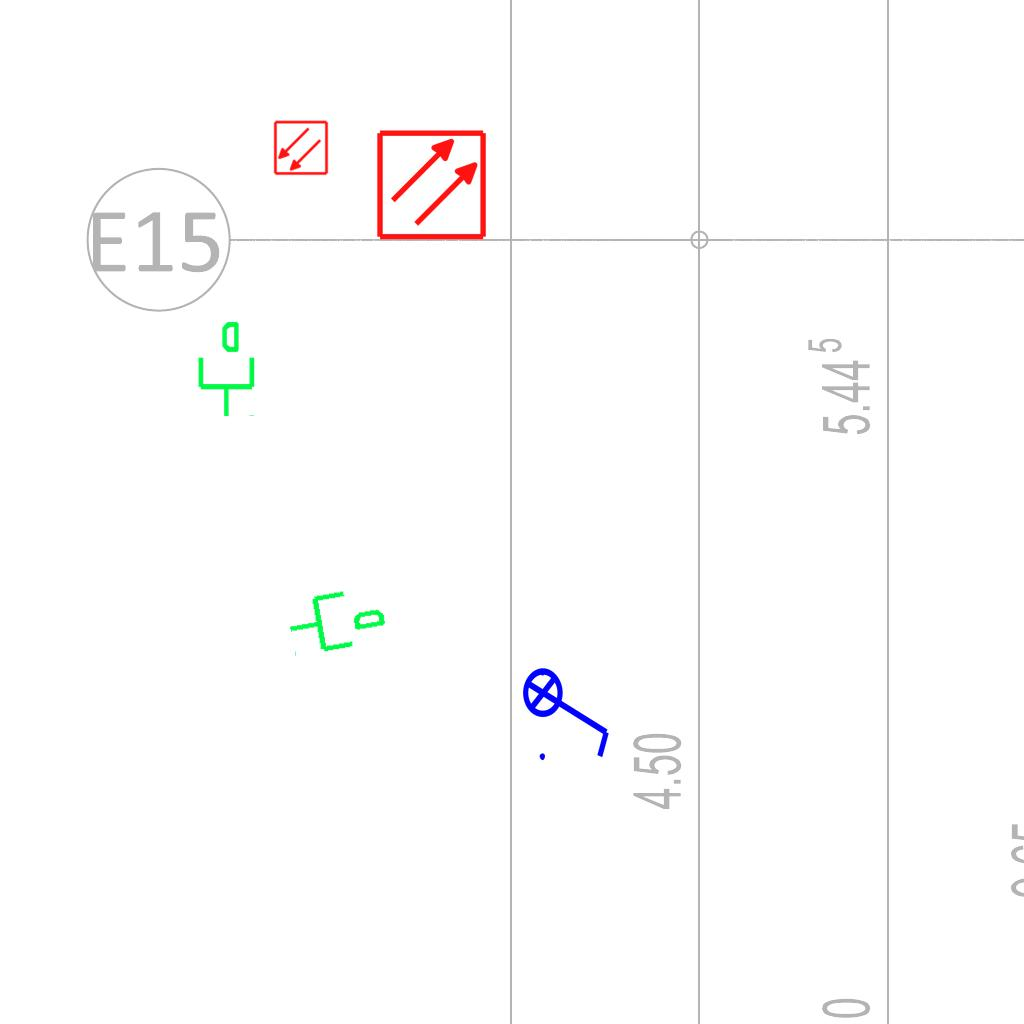Ausschalter_beleuchtet: (521, 654, 617, 766)
Datenanschluss_einfach: (281, 576, 392, 662), (190, 319, 259, 419)
RMO_Rauchmelder_optischer: (375, 128, 488, 241), (273, 120, 329, 176)
